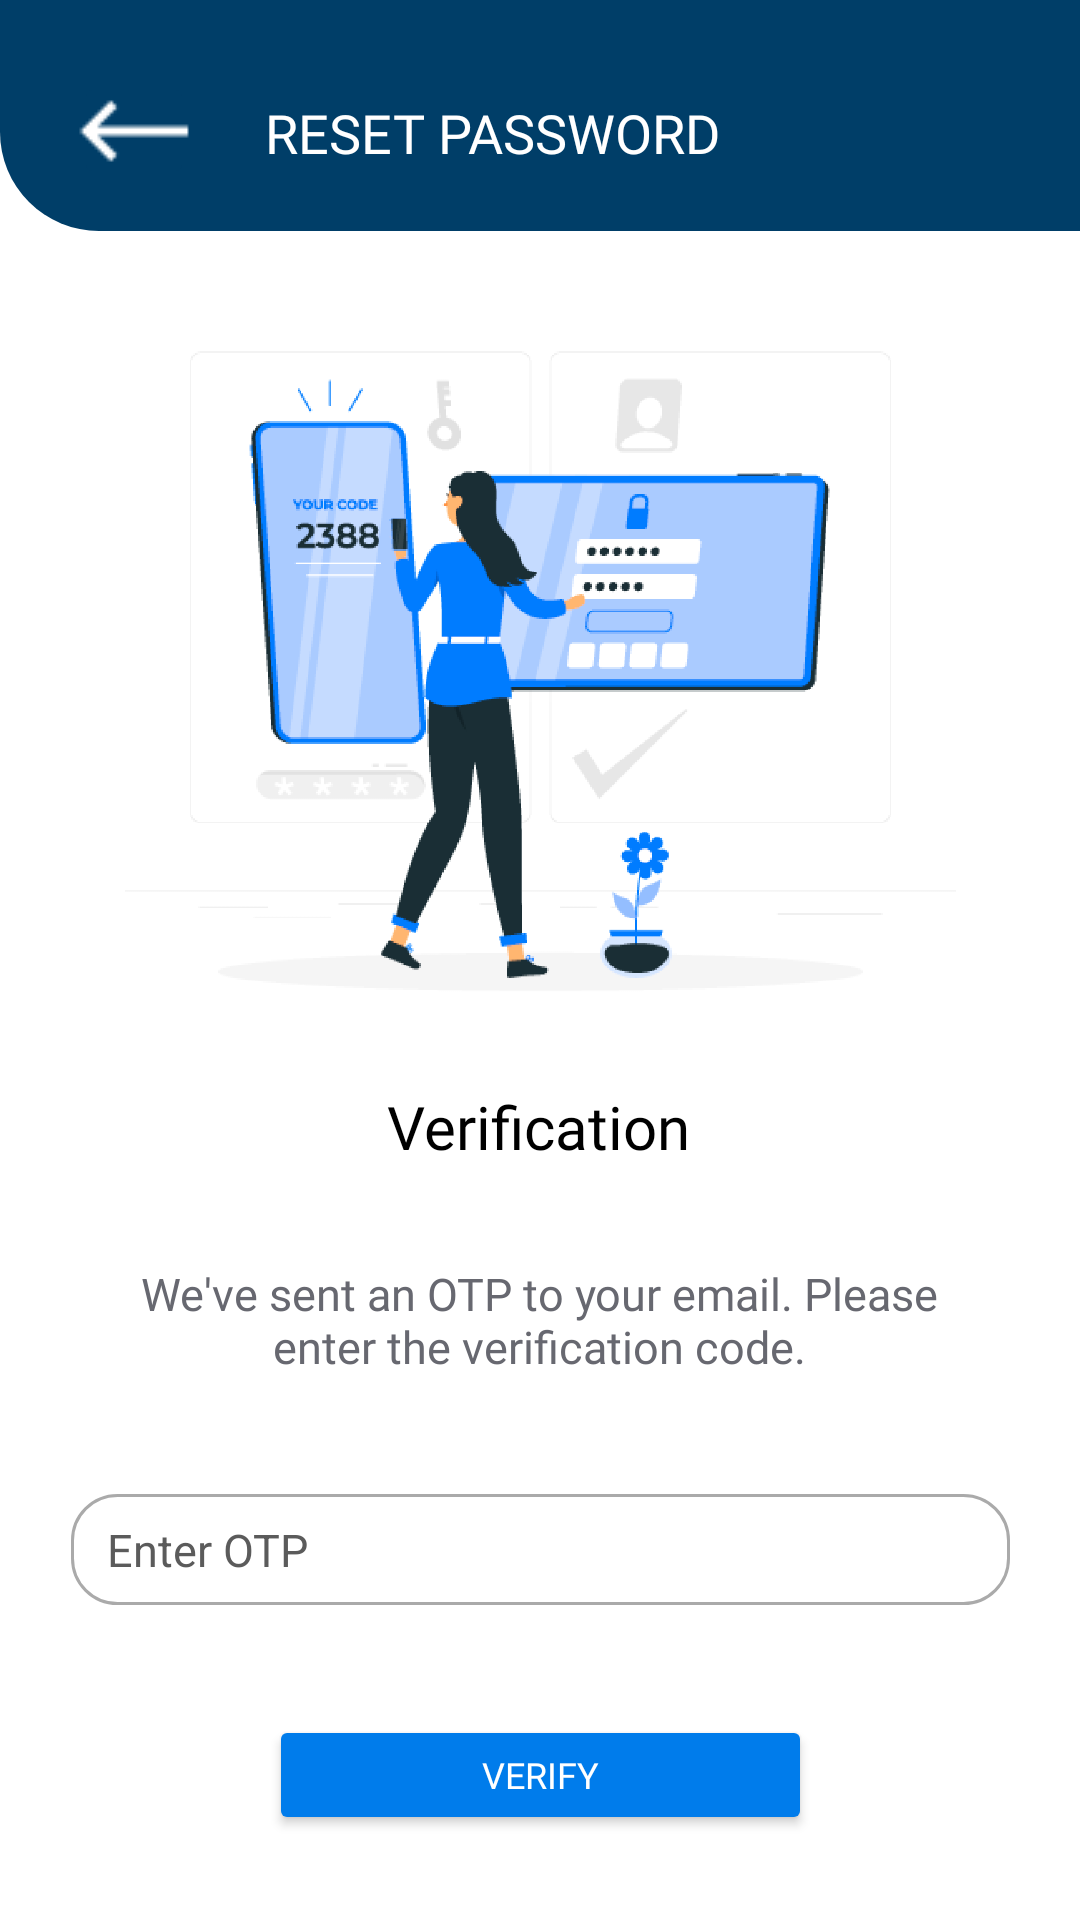

Named icons in this screenshot (1080*1920) and their centers, (x,y):
back arrow: (134,131)
